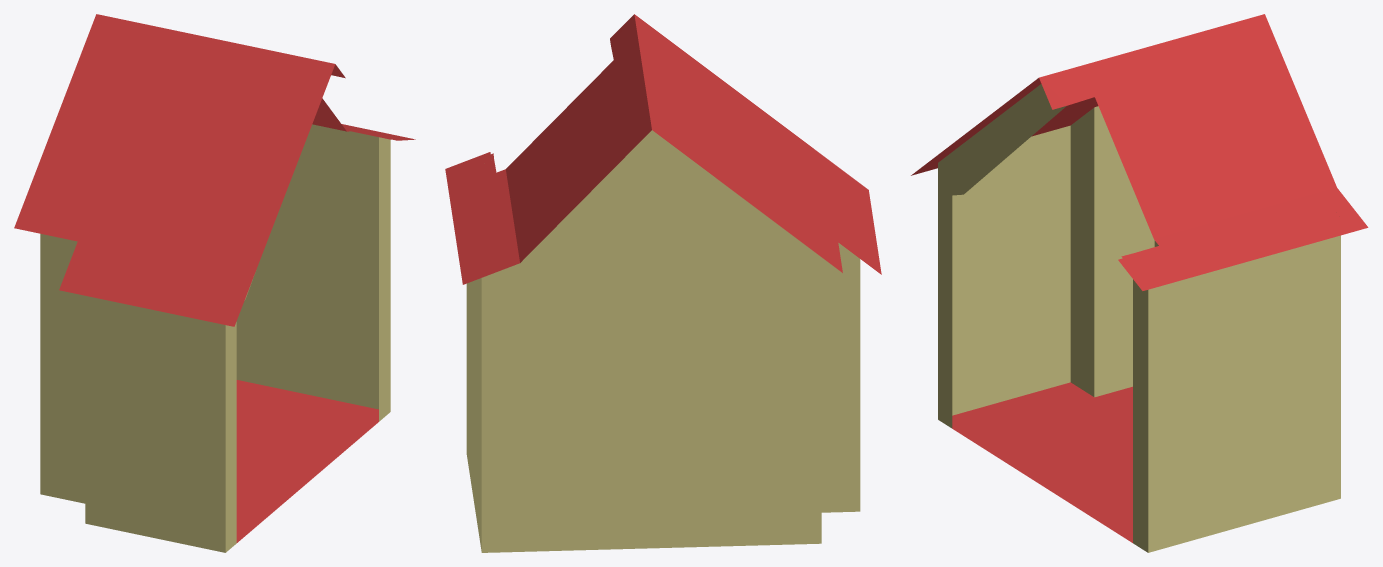
3 views of the same model, side by side, from view 1: azimuth 30°, elevation 25°; view 2: azimuth 150°, elevation 25°; view 3: azimuth 270°, elevation 25° (orthographic). The views are drawn at different scales.
Bounding box in the file's own units: 17.43 × 17.24 × 17.49.
